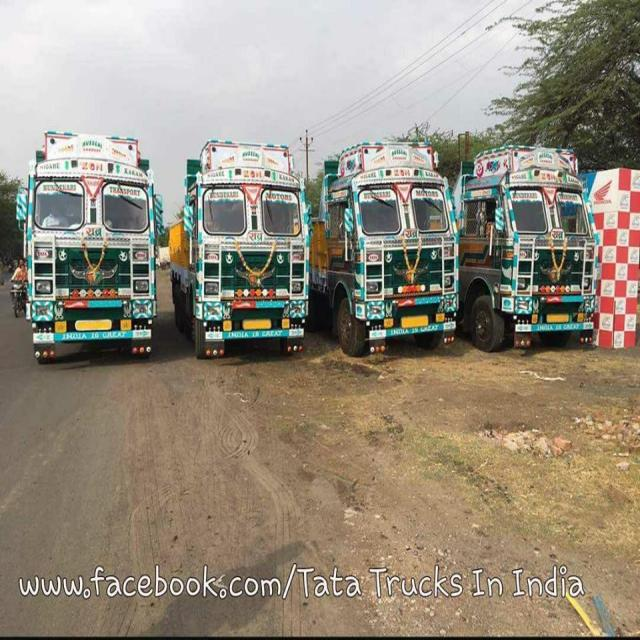motorbike: (1, 262, 35, 322)
truck: (454, 115, 602, 350), (306, 134, 460, 350), (169, 134, 311, 368), (24, 118, 156, 369)
